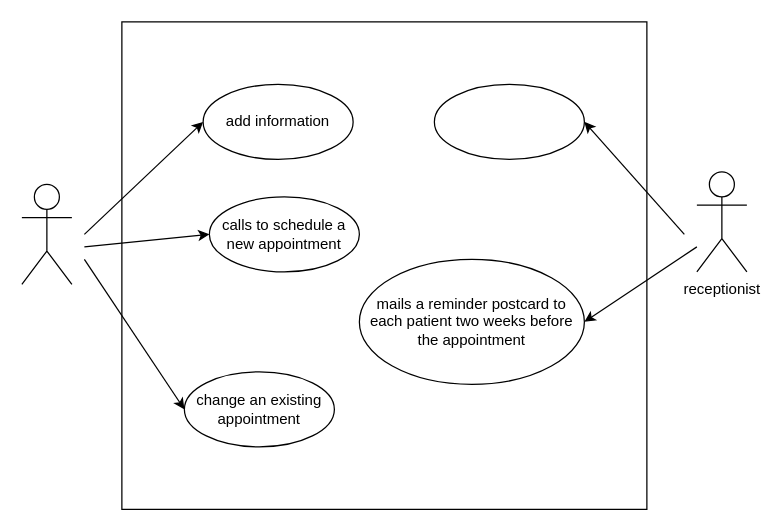
The diagram is 781 pixels wide and 531 high, and some of its shapes have lost their labels. Here are the shapes that lost their labels. From the top down, the centre of each, then its label:
At (508,121): "checks the appointment file".
At (46,233): "Patient".
